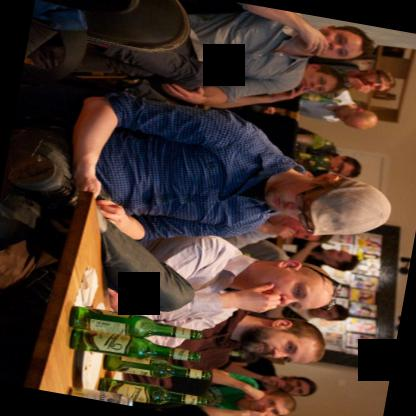backpack: (23, 0, 92, 80)
